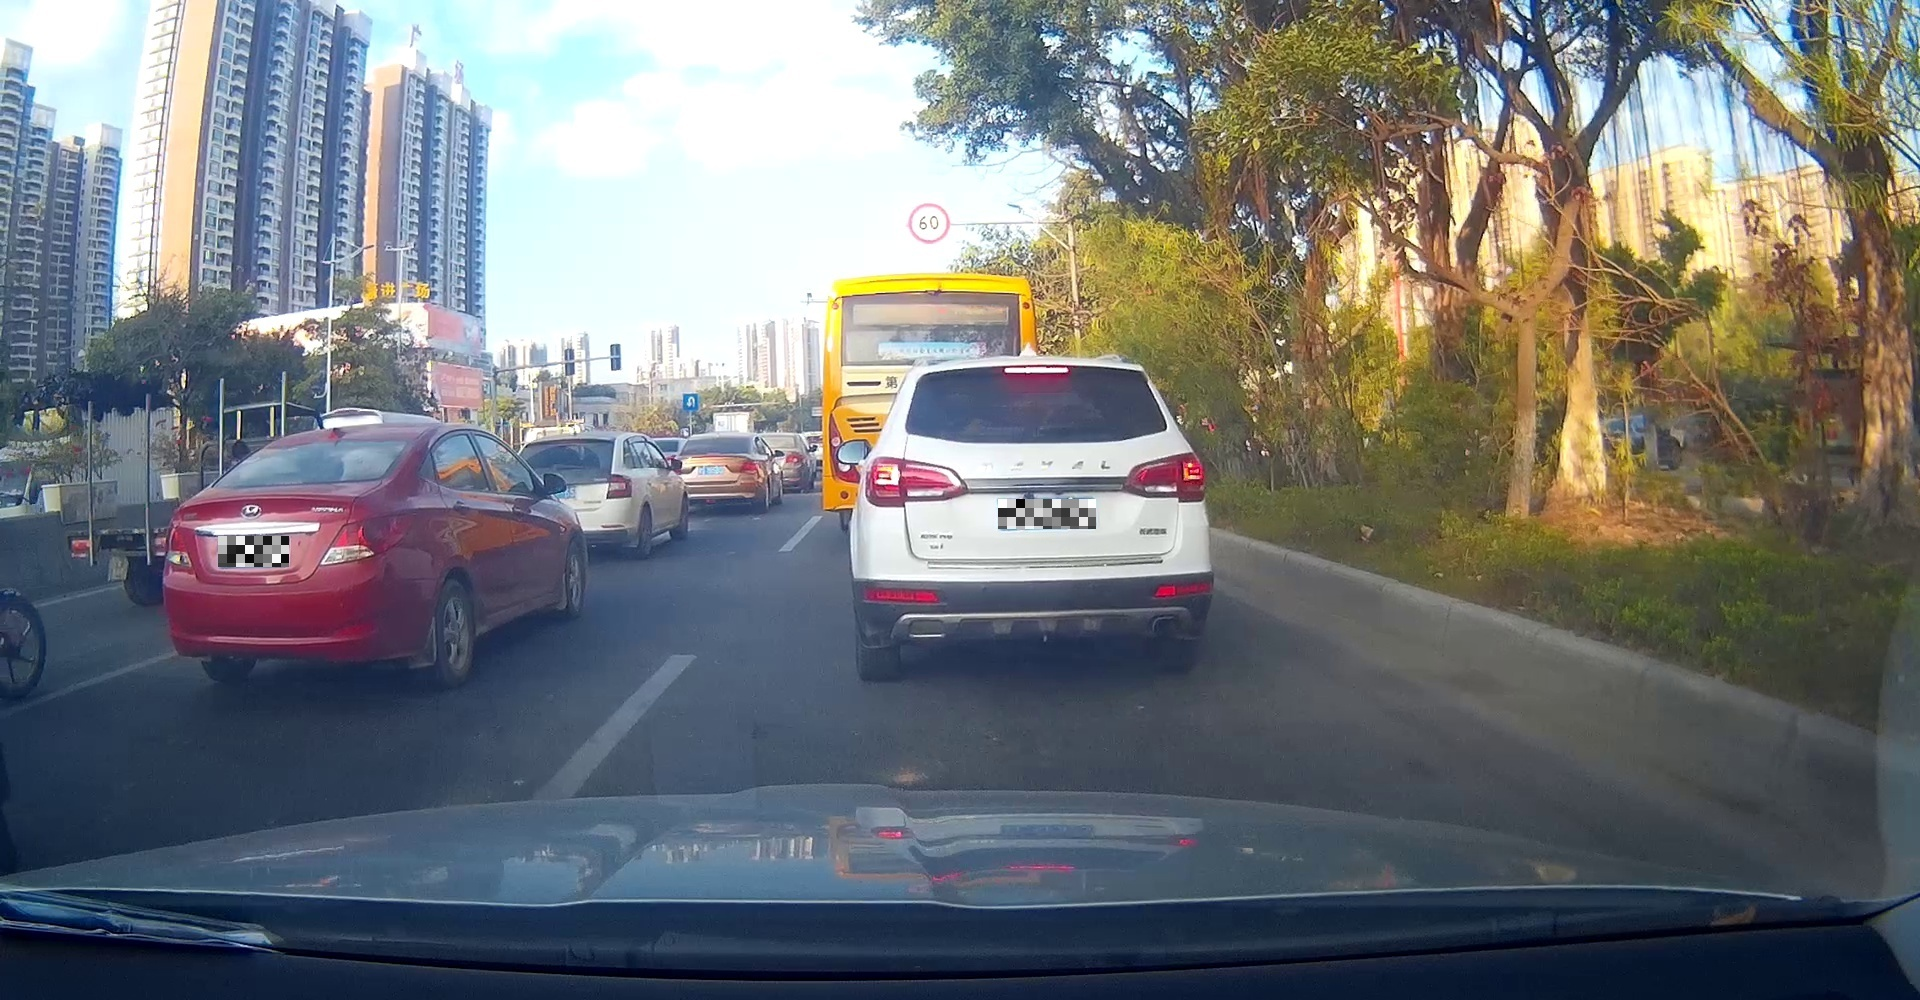L_light: (863, 456, 970, 508), (163, 530, 192, 569)
R_light: (319, 513, 419, 565), (1123, 452, 1206, 503)
T_light: (1002, 365, 1069, 373), (323, 442, 343, 448)
day-brake: (851, 354, 1213, 683)
day-no: (163, 424, 422, 684)
plate_1: (218, 536, 290, 567)
plate_2: (998, 499, 1096, 529)
